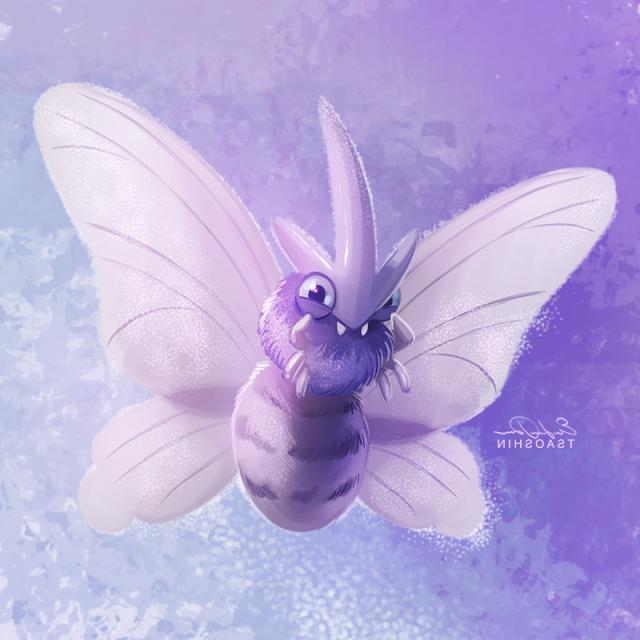Venomoth: (0, 100, 640, 574)
